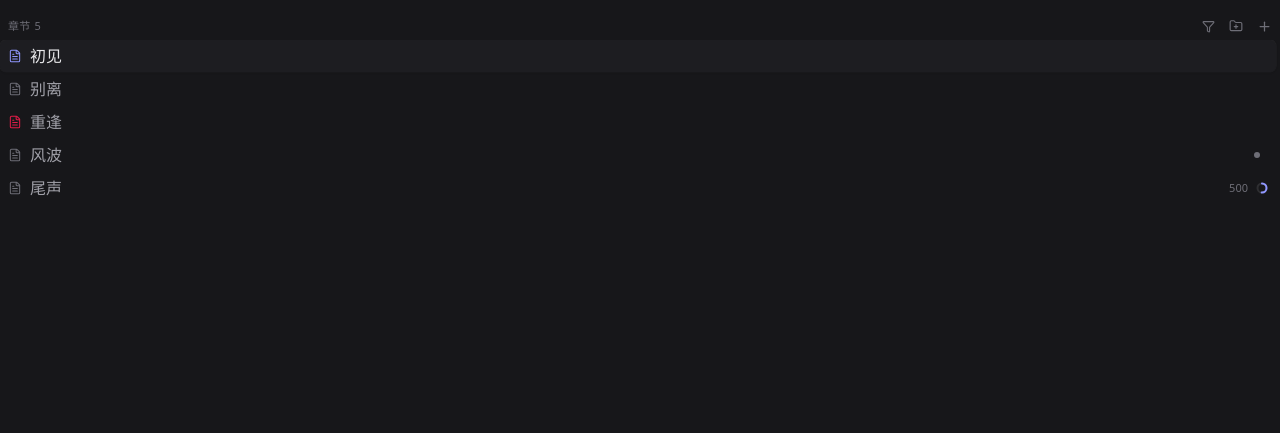
Binder 右键批量赋值 › 右键在选区内 → 菜单作用于整个选区（标签批量设置）；选区外只作用于该章
Right-click the list item "重逢".
right_click(35, 122)  # box x1=8 y1=111 x2=62 y2=133
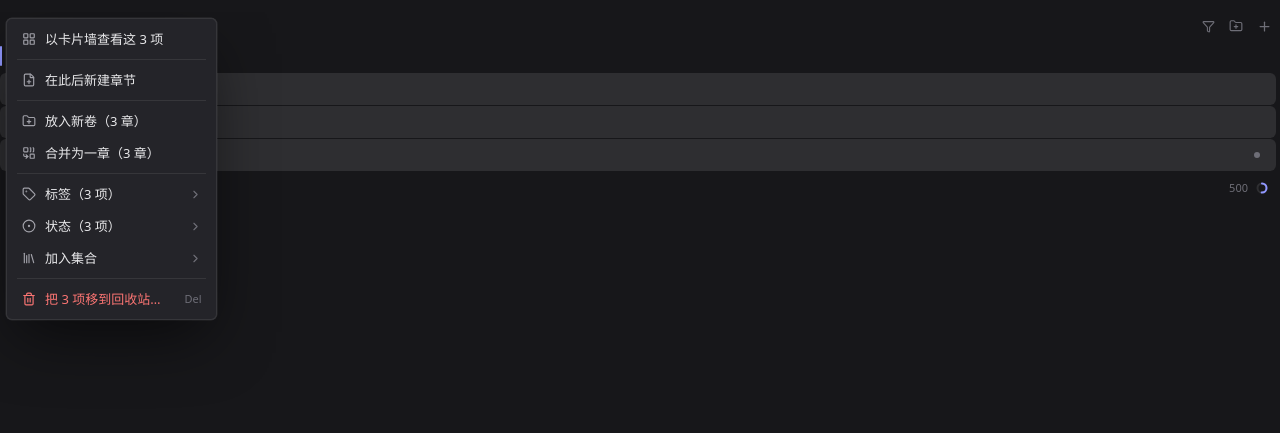
Click the menu item "标签（3 项）".
click(112, 194)  # box x1=22 y1=185 x2=202 y2=203
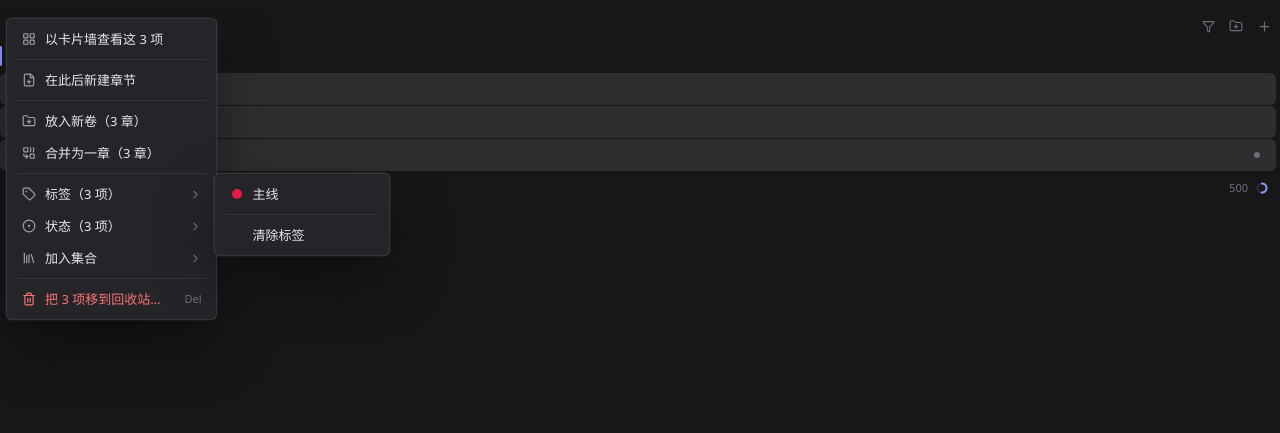
Click the menu item "主线".
click(255, 194)  # box x1=232 y1=185 x2=279 y2=203
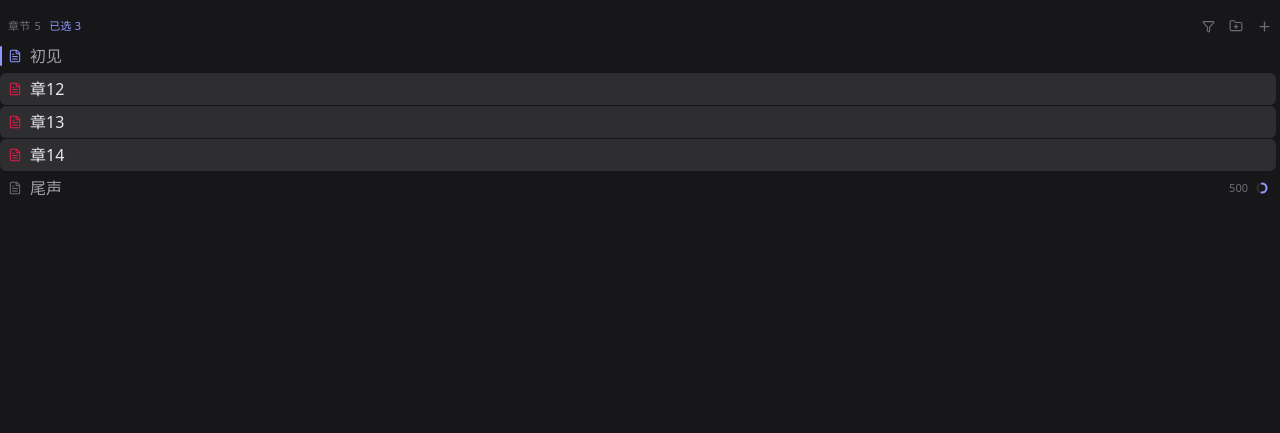
Right-click the list item "尾声".
right_click(46, 188)  # box x1=0 y1=172 x2=1276 y2=204
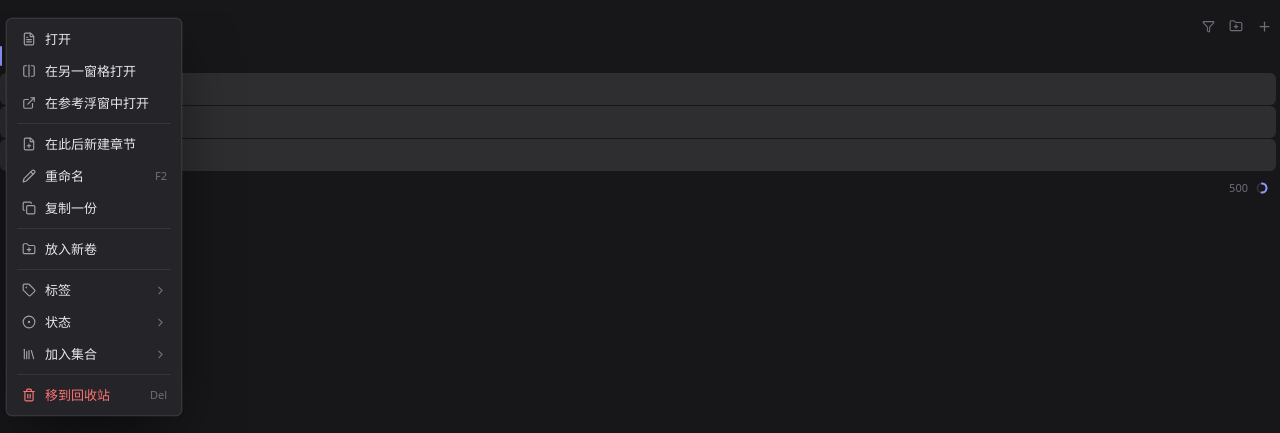
Expected: the menu item "标签（" is not shown
Expected: the text "在另一窗格打开" is shown, x1=45 y1=62 x2=136 y2=80
